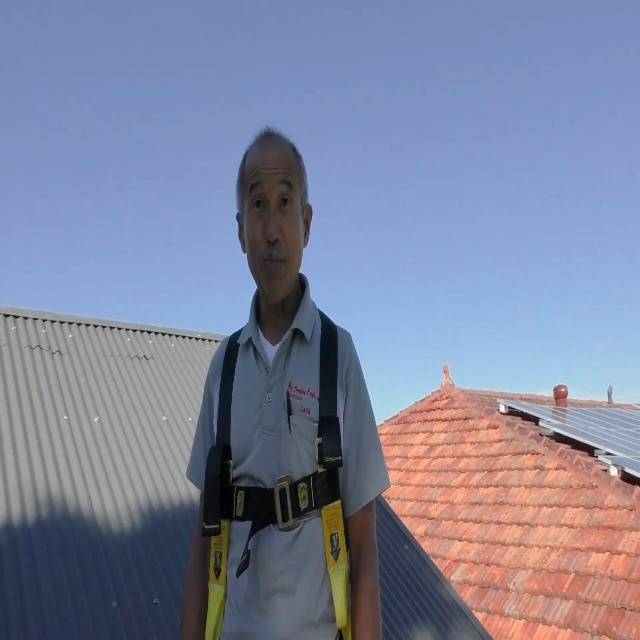Arnes_seguridad: (204, 307, 348, 640)
